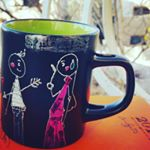cups: (1, 16, 136, 150)
